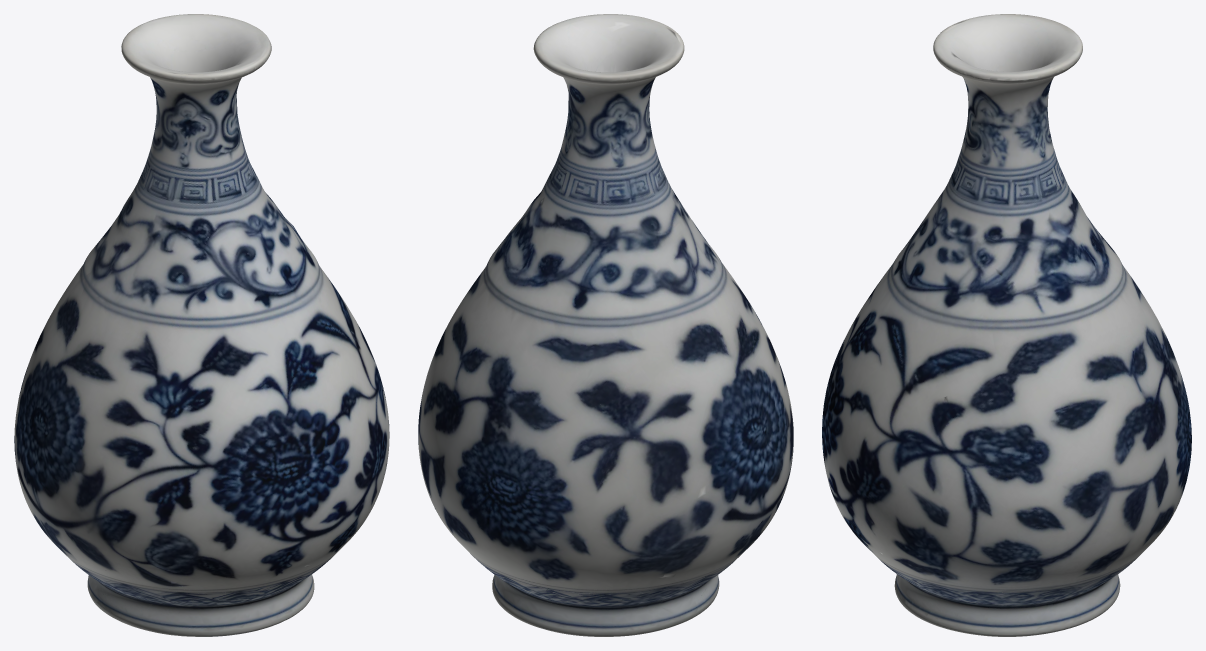
Rendered from yuhuchun.glb.
The picture shows the model from 3 angles, left to right: view 1: azimuth 30°, elevation 25°; view 2: azimuth 150°, elevation 25°; view 3: azimuth 270°, elevation 25°; orthographic projection.
Visible parts, largest first — view 1: node_0; view 2: node_0; view 3: node_0.
Part boxes in pixels (x1,y1,x2,y2): node_0: [14, 14, 389, 636]; node_0: [418, 14, 793, 636]; node_0: [822, 14, 1191, 636].
Bounding box in the file's own units: 0.7033 × 1.13 × 0.6953.
1 material, 1 textured.
